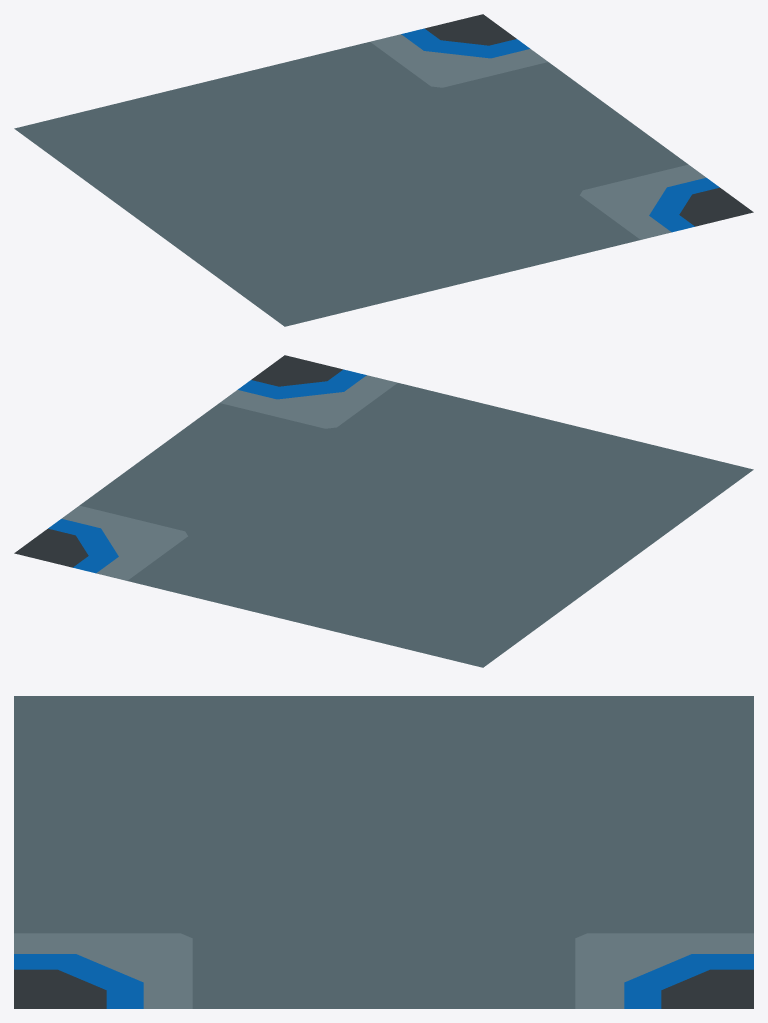
The model's file is Ceiling_type_C_047.fbx.
The picture shows the model from 3 angles, top to bottom: view 1: azimuth 30°, elevation 25°; view 2: azimuth 150°, elevation 25°; view 3: azimuth 270°, elevation 25°; orthographic projection. The views are drawn at different scales.
Parts seen in each view (by area): view 1: Ceiling_type_C_047; view 2: Ceiling_type_C_047; view 3: Ceiling_type_C_047.
Boxes of the visible parts, x1,y1,x2,y2 form: Ceiling_type_C_047: (14, 14, 753, 326); Ceiling_type_C_047: (14, 355, 753, 667); Ceiling_type_C_047: (14, 696, 753, 1008).
Bounding box in the file's own units: 400 × 400 × 3.5.
